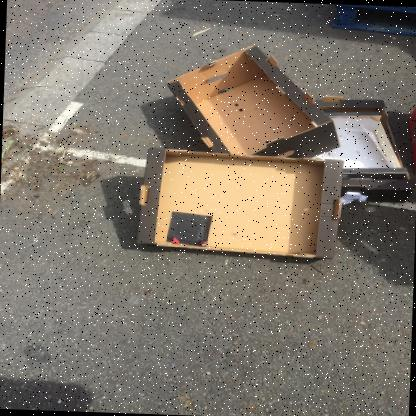Corrugated carton: (137, 147, 344, 259), (167, 45, 341, 158), (312, 96, 414, 202)
Food waste: (199, 240, 208, 247), (171, 238, 180, 244)
Unlabeled litter: (192, 28, 211, 37)
